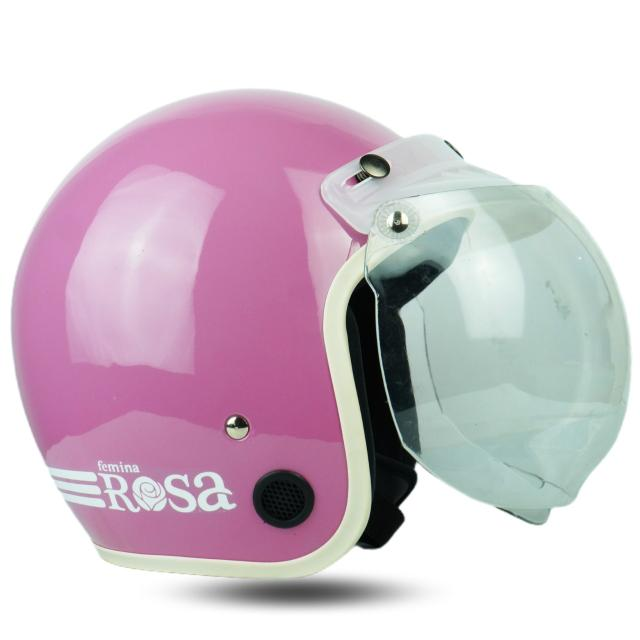Helm: (8, 81, 633, 580)
